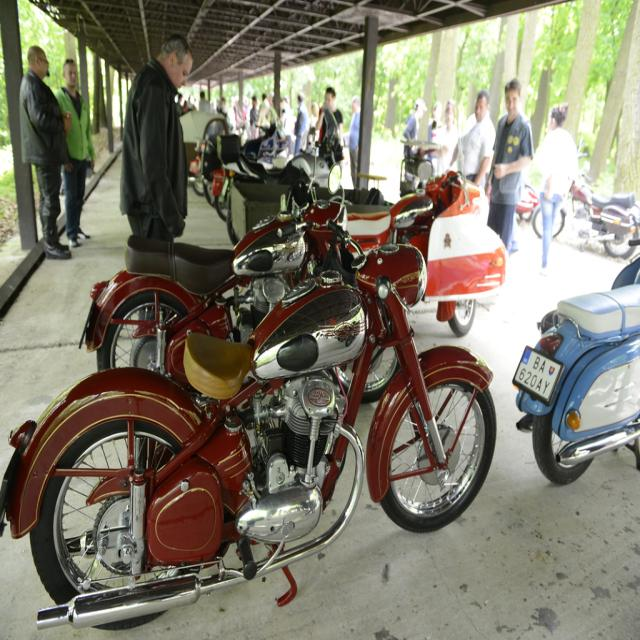Motorbikes: (1, 221, 503, 640), (510, 245, 640, 496)
